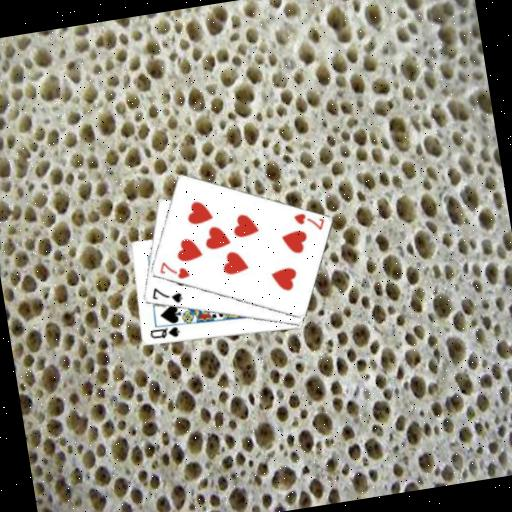7H: (154, 255, 191, 284), (290, 207, 327, 236)
7S: (147, 280, 184, 308)
QS: (146, 323, 182, 343)
